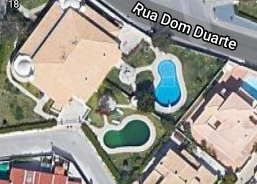pool: (104, 121, 153, 148), (156, 61, 182, 110), (242, 75, 256, 98)
